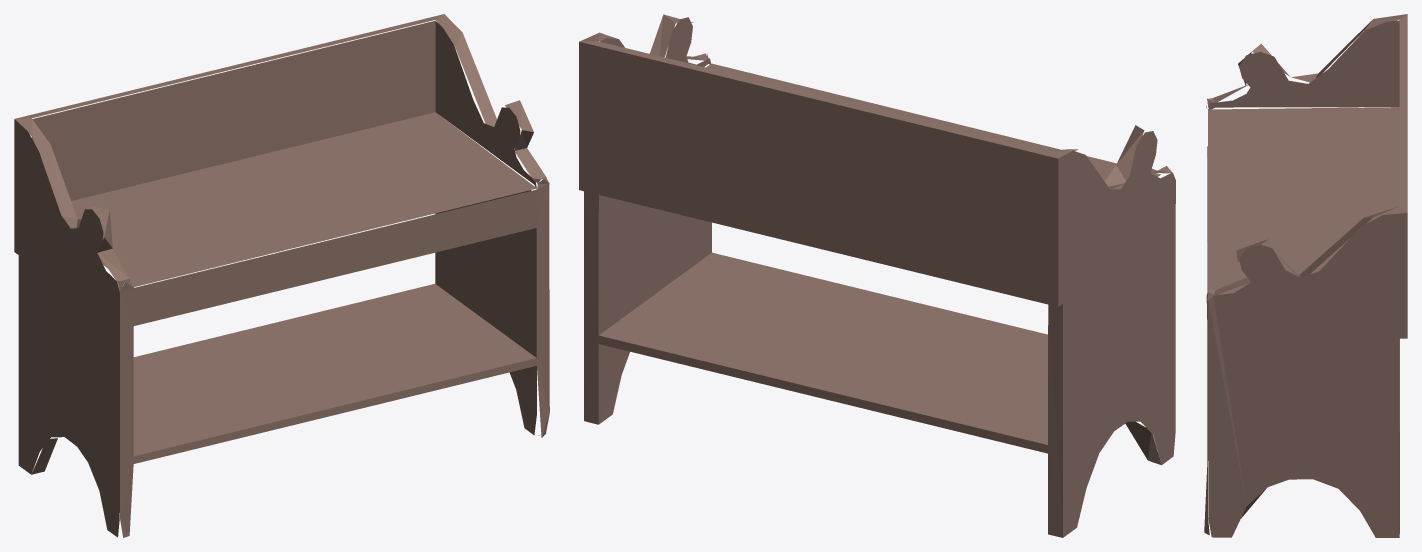
File: bench.glb
3 views of the same model, side by side, from view 1: azimuth 30°, elevation 25°; view 2: azimuth 150°, elevation 25°; view 3: azimuth 270°, elevation 25° (orthographic). The views are drawn at different scales.
Visible parts, largest first — view 1: bench; view 2: bench; view 3: bench.
Boxes of the visible parts, x1,y1,x2,y2 form: bench: (14,14,549,537); bench: (579,14,1175,537); bench: (1204,14,1407,537).
Size of the model in its own units: 1.25 by 0.9528 by 0.5387.
